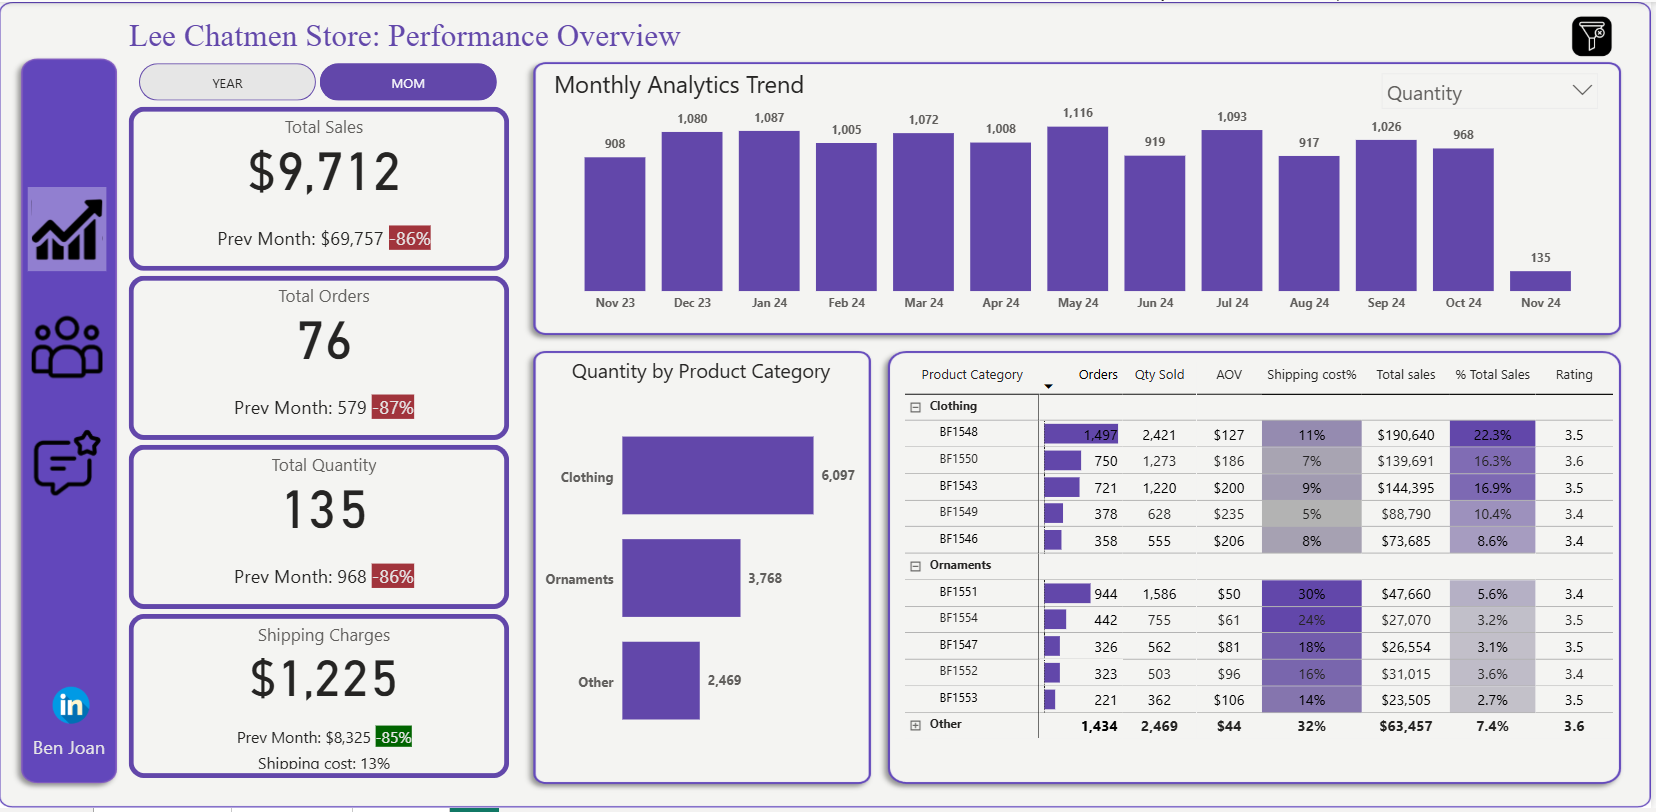

This screenshot's page, from the dashboard's own definition file:
{"tool":"powerbi","page":{"name":"Performance","canvas":[1680,820],"ordinal":0},"visuals":[{"type":"pivotTable","fields":{"Rows":["Fact_Data.Product Category","Fact_Data.Product ID"],"Values":["_Measures._No of orders","_Measures._qty ordered","_Measures.Average Order VaLue (AOV)","_Measures._shipping cost %","_Measures._total sales","_Measures.% Total Sales","_Measures._avg rating"]},"box":[916.4,361.1,732.6,420.1],"z":0},{"type":"columnChart","title":"Month-Year Analytics","fields":{"Y":["_Measures._qty ordered"],"Category":["Calender.Month - Year"]},"box":[559.6,90.3,1077.1,234],"z":1000},{"type":"clusteredBarChart","fields":{"Y":["_Measures._qty ordered"],"Category":["Data.Product Category"]},"box":[548.8,361.1,329.5,420.1],"z":2000},{"type":"slicer","fields":{"Values":["Parameter.Parameter"]},"box":[1396.9,61.7,240.3,56.5],"z":3000},{"type":"textbox","box":[559.3,61.7,601.3,56.5],"z":4000},{"type":"textbox","box":[127.4,10.5,852.1,51.2],"z":5000},{"type":"image","box":[30.2,691.9,85.3,47.3],"z":6000},{"type":"textbox","box":[29.6,739.5,97.8,41.5],"z":7000},{"type":"image","box":[1592.2,8.9,57.2,52.1],"z":8000},{"type":"actionButton","box":[29.6,188.2,80,86],"z":9000},{"type":"actionButton","box":[29.6,308.3,80,86],"z":10000},{"type":"actionButton","box":[29.2,426.2,80.5,86.1],"z":11000},{"type":"cardVisual","fields":{"Data":["_Measures._total sales","_Measures._No of orders","_Measures._qty ordered","_Measures._shipping charges"]},"box":[127.9,107.4,396.3,690],"z":12000},{"type":"bookmarkNavigator","box":[143,62.5,365.2,38.9],"z":12002}]}

Visuals, with their boxes in screenshot pixels (x1, y1, x2, y2), scaled from the page's 1680x820 canvas onto the 1656x812 screenshot:
pivotTable - Fact_Data.Product Category x Fact_Data.Product ID: BBox(903, 358, 1625, 774)
"Month-Year Analytics" columnChart: BBox(552, 89, 1613, 321)
clusteredBarChart - _Measures._qty ordered x Data.Product Category: BBox(541, 358, 866, 774)
slicer - Parameter.Parameter: BBox(1377, 61, 1614, 117)
textbox: BBox(551, 61, 1144, 117)
textbox: BBox(126, 10, 966, 61)
image: BBox(30, 685, 114, 732)
textbox: BBox(29, 732, 126, 773)
image: BBox(1569, 9, 1626, 60)
actionButton: BBox(29, 186, 108, 272)
actionButton: BBox(29, 305, 108, 390)
actionButton: BBox(29, 422, 108, 507)
cardVisual - _Measures._total sales x _Measures._No of orders: BBox(126, 106, 517, 790)
bookmarkNavigator: BBox(141, 62, 501, 100)
